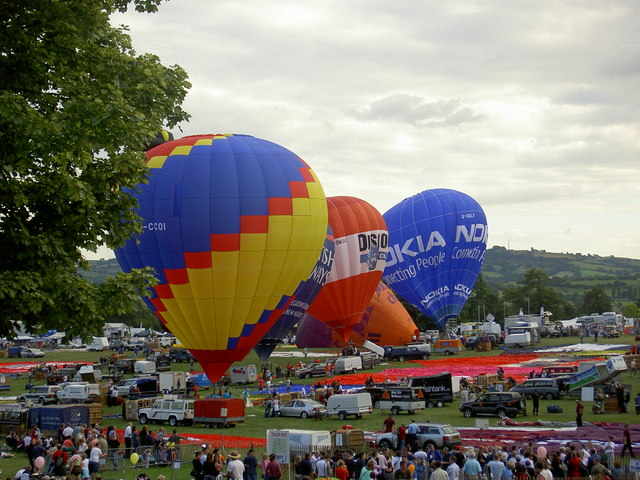balloon: (90, 91, 278, 374), (384, 151, 496, 310), (253, 168, 349, 331), (307, 168, 394, 300)
